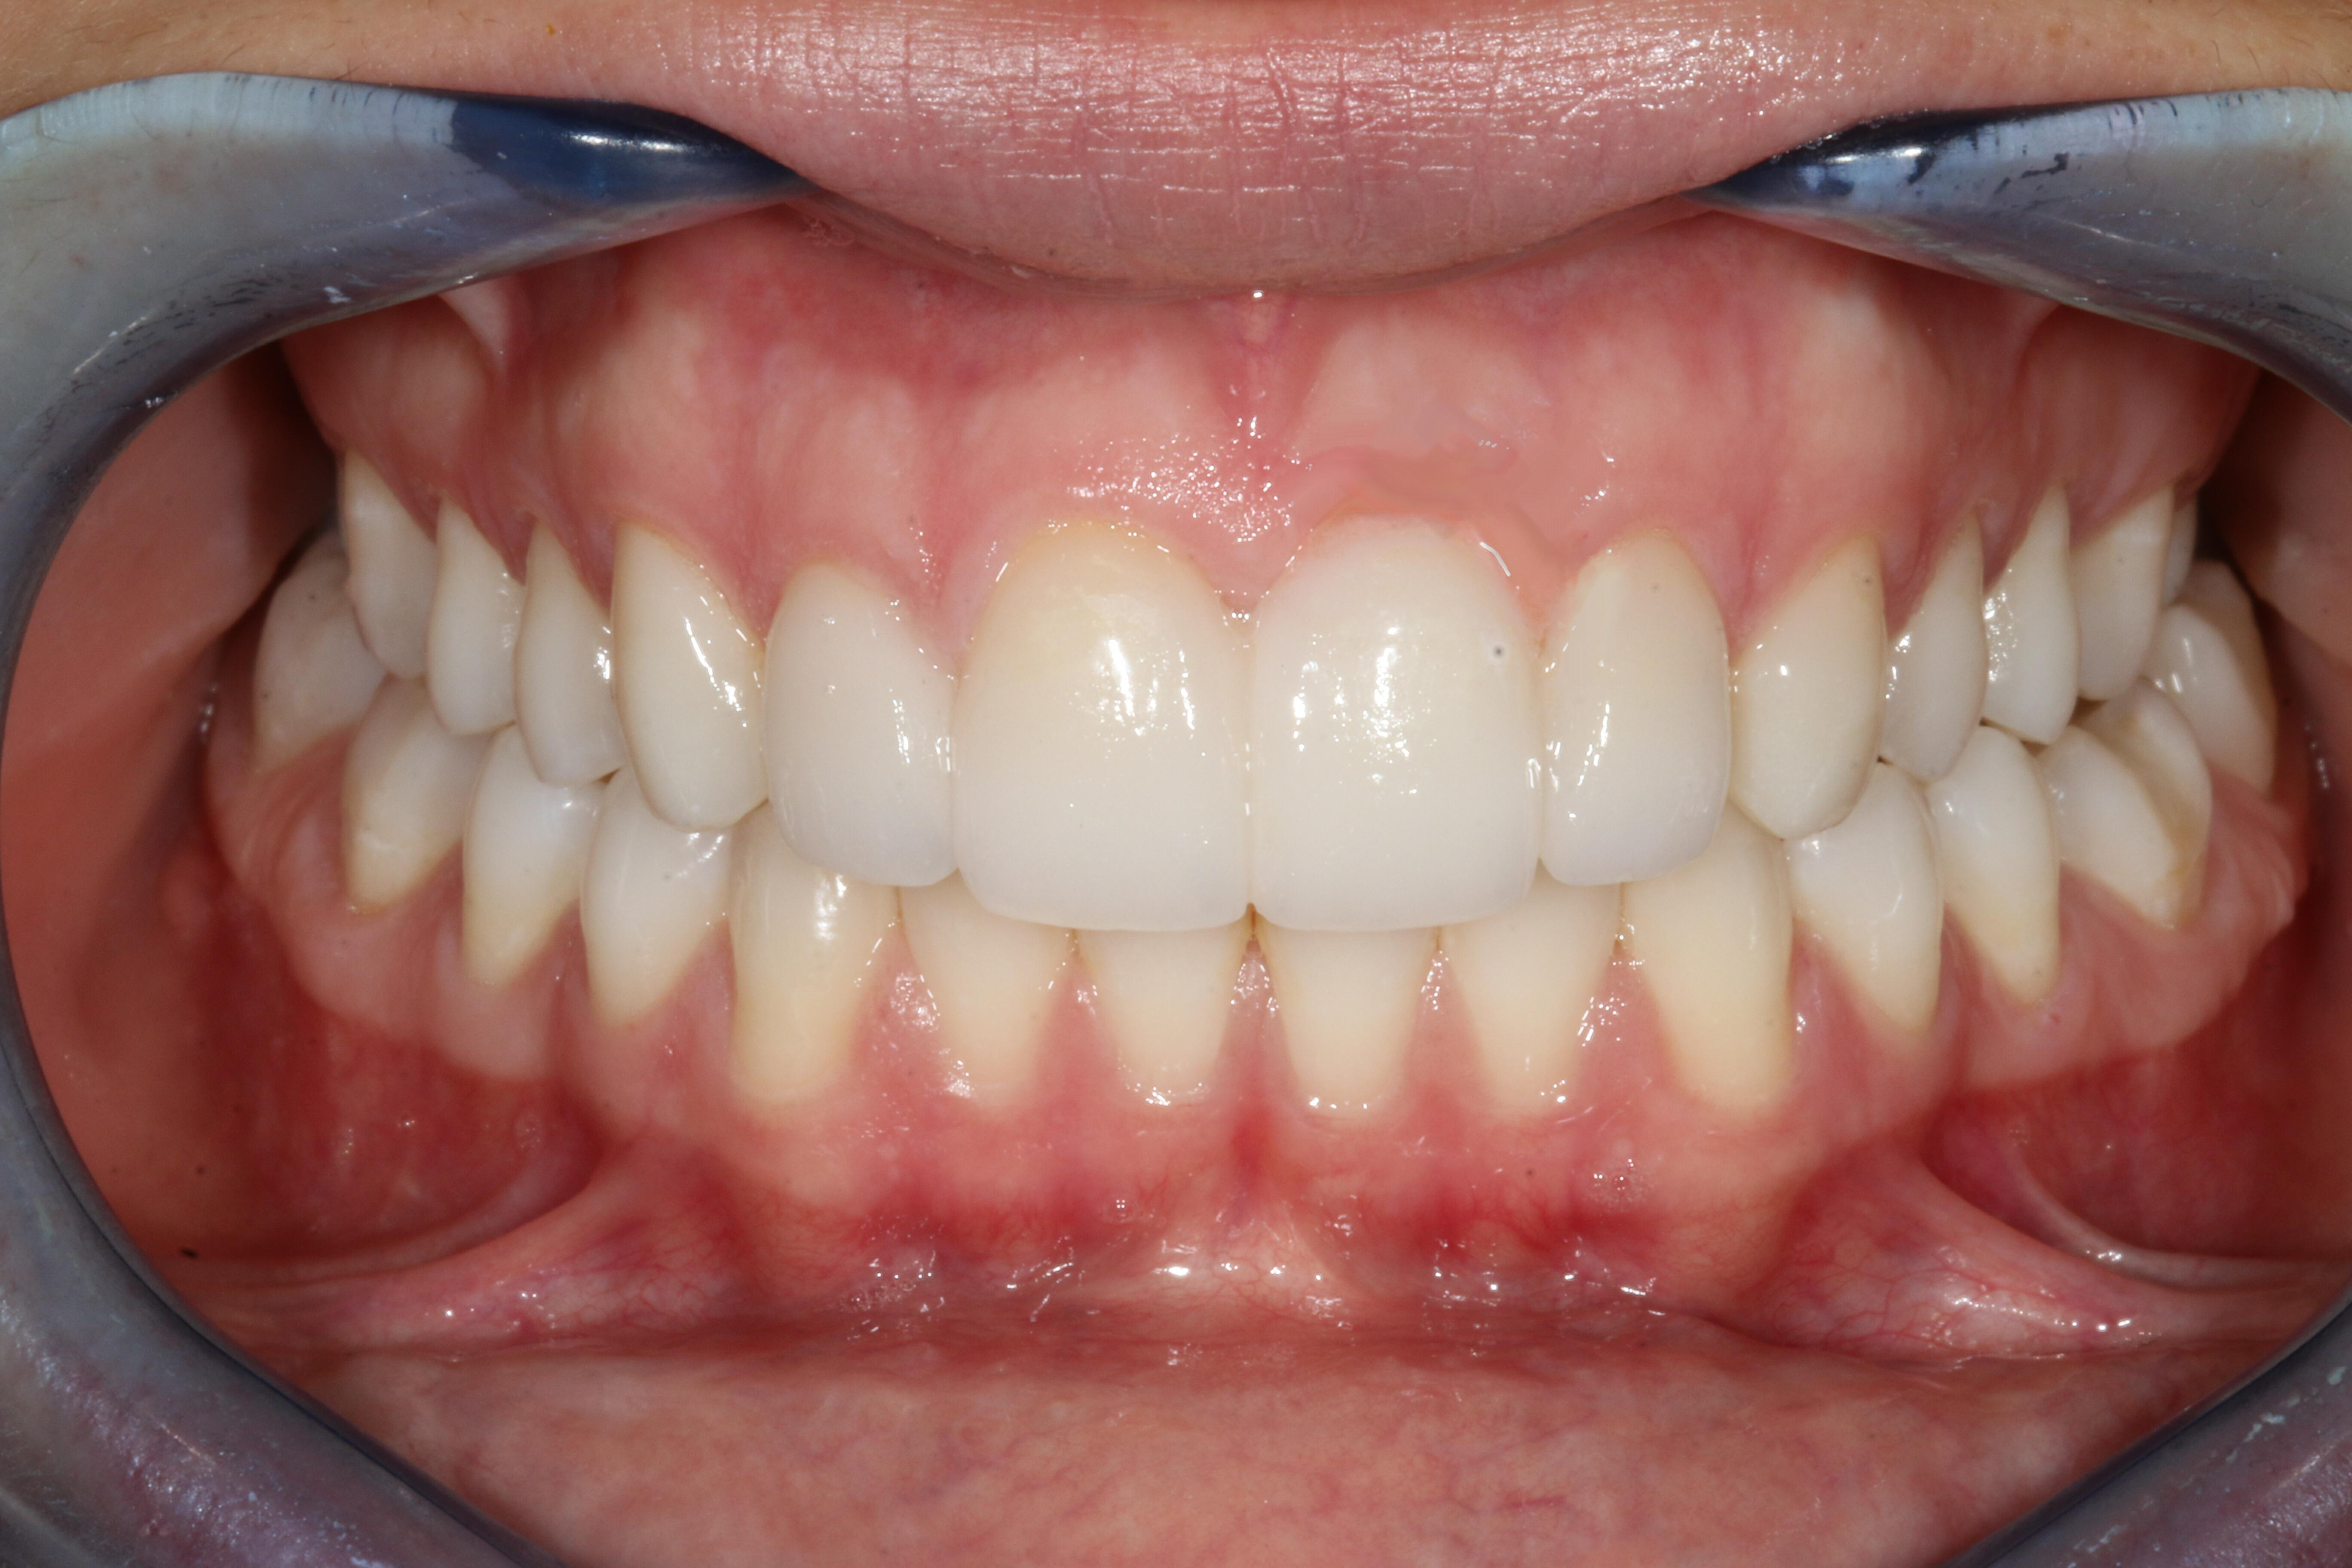LL1BC_healthy: (1792, 829, 1942, 1034)
LL1M_healthy: (2049, 740, 2212, 915)
LL2BC_healthy: (1935, 777, 2063, 1008)
LL2M_healthy: (2166, 570, 2271, 770)
LLCI_healthy: (1262, 929, 1433, 1125)
LLC_healthy: (1626, 877, 1797, 1099)
LLLI_healthy: (1447, 926, 1615, 1116)
LR1BC_healthy: (581, 814, 728, 1018)
LR1M_healthy: (339, 705, 465, 915)
LR2BC_healthy: (462, 765, 581, 976)
LR2M_healthy: (254, 555, 366, 763)
LRCI_healthy: (1095, 931, 1244, 1094)
LRC_healthy: (728, 864, 891, 1116)
LRLI_healthy: (905, 894, 1069, 1102)
UL1BC_healthy: (1885, 521, 1995, 775)
UL1M_healthy: (2074, 490, 2172, 698)
UL2BC_healthy: (1990, 490, 2079, 745)
ULCI_healthy: (1255, 530, 1538, 931)
ULC_healthy: (1732, 537, 1888, 829)
ULLI_healthy: (1538, 532, 1732, 887)
UR1BC_healthy: (513, 537, 614, 787)
UR1M_healthy: (343, 451, 429, 674)
UR2BC_healthy: (429, 507, 518, 731)
URCI_healthy: (952, 535, 1253, 931)
URC_healthy: (611, 516, 761, 833)
URLI_healthy: (761, 563, 954, 887)
